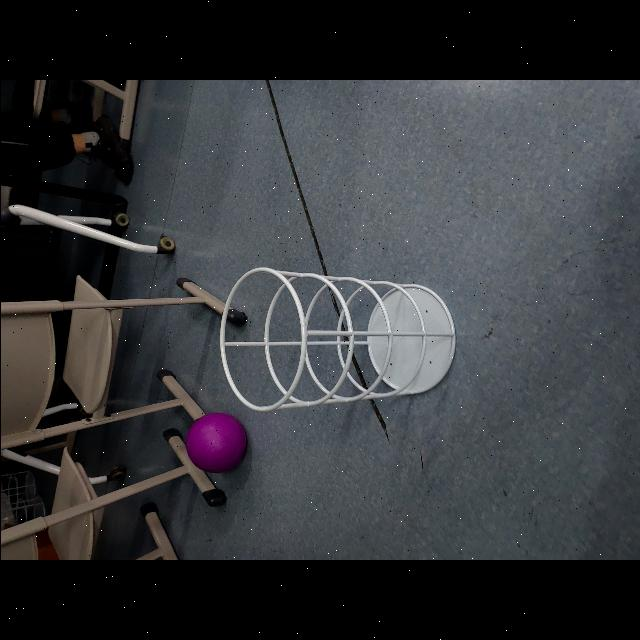S: (215, 264, 458, 414)
